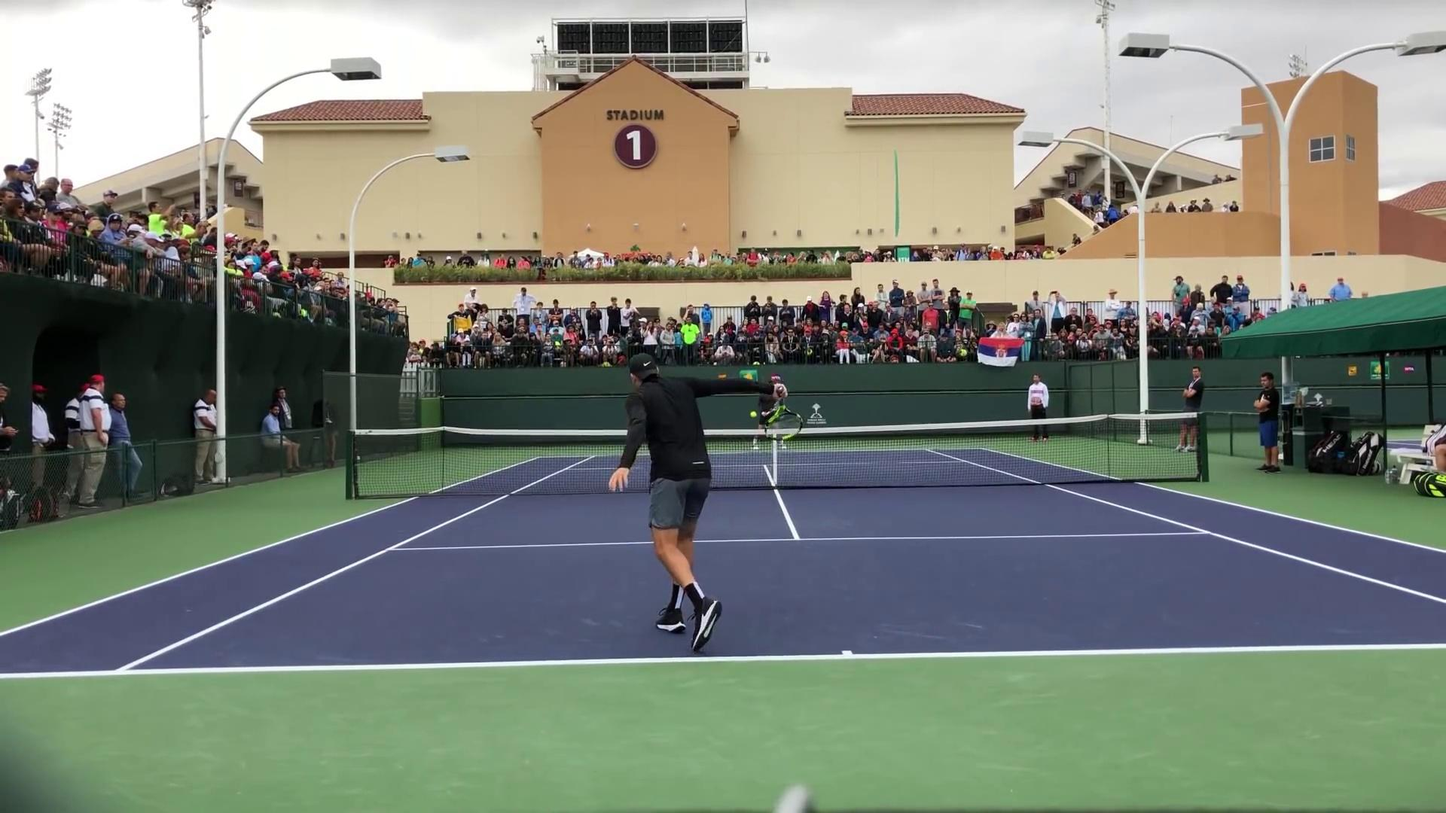ball: (750, 410, 757, 420)
